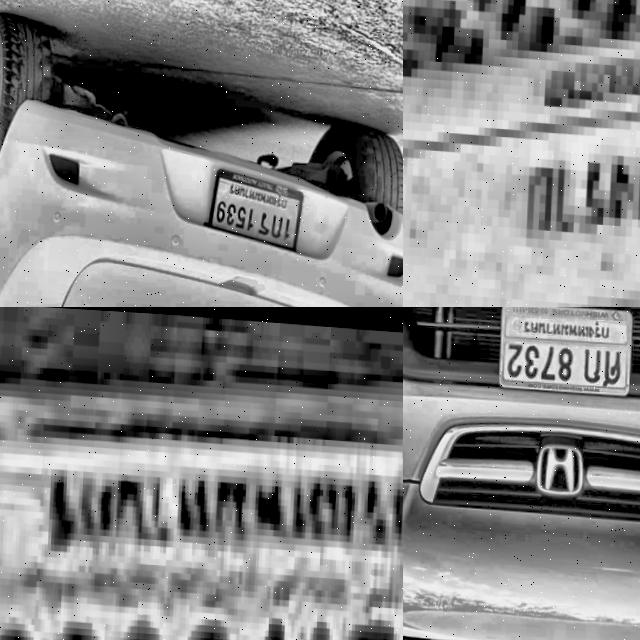license-plate: (0, 326, 403, 640), (403, 0, 640, 307), (498, 307, 630, 391), (206, 159, 306, 253)
